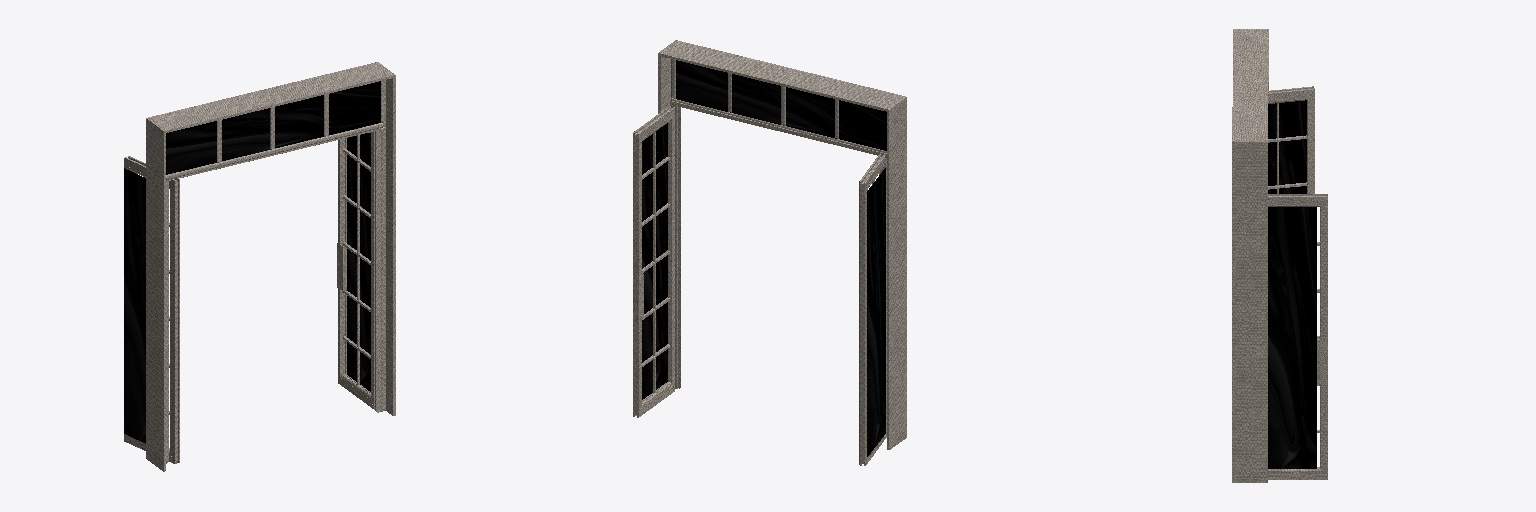
3 renders of one model, left to right at view 1: azimuth 30°, elevation 25°; view 2: azimuth 150°, elevation 25°; view 3: azimuth 270°, elevation 25°, orthographic.
Parts seen in each view (by area): view 1: puerta; view 2: puerta; view 3: puerta.
Part boxes in pixels (x1,y1,x2,y2): puerta: (124, 62, 395, 471); puerta: (633, 40, 906, 465); puerta: (1232, 29, 1327, 482).
Size of the model in its own units: 40.03 by 56.18 by 14.26.
Materials: 2 (2 with a texture image).